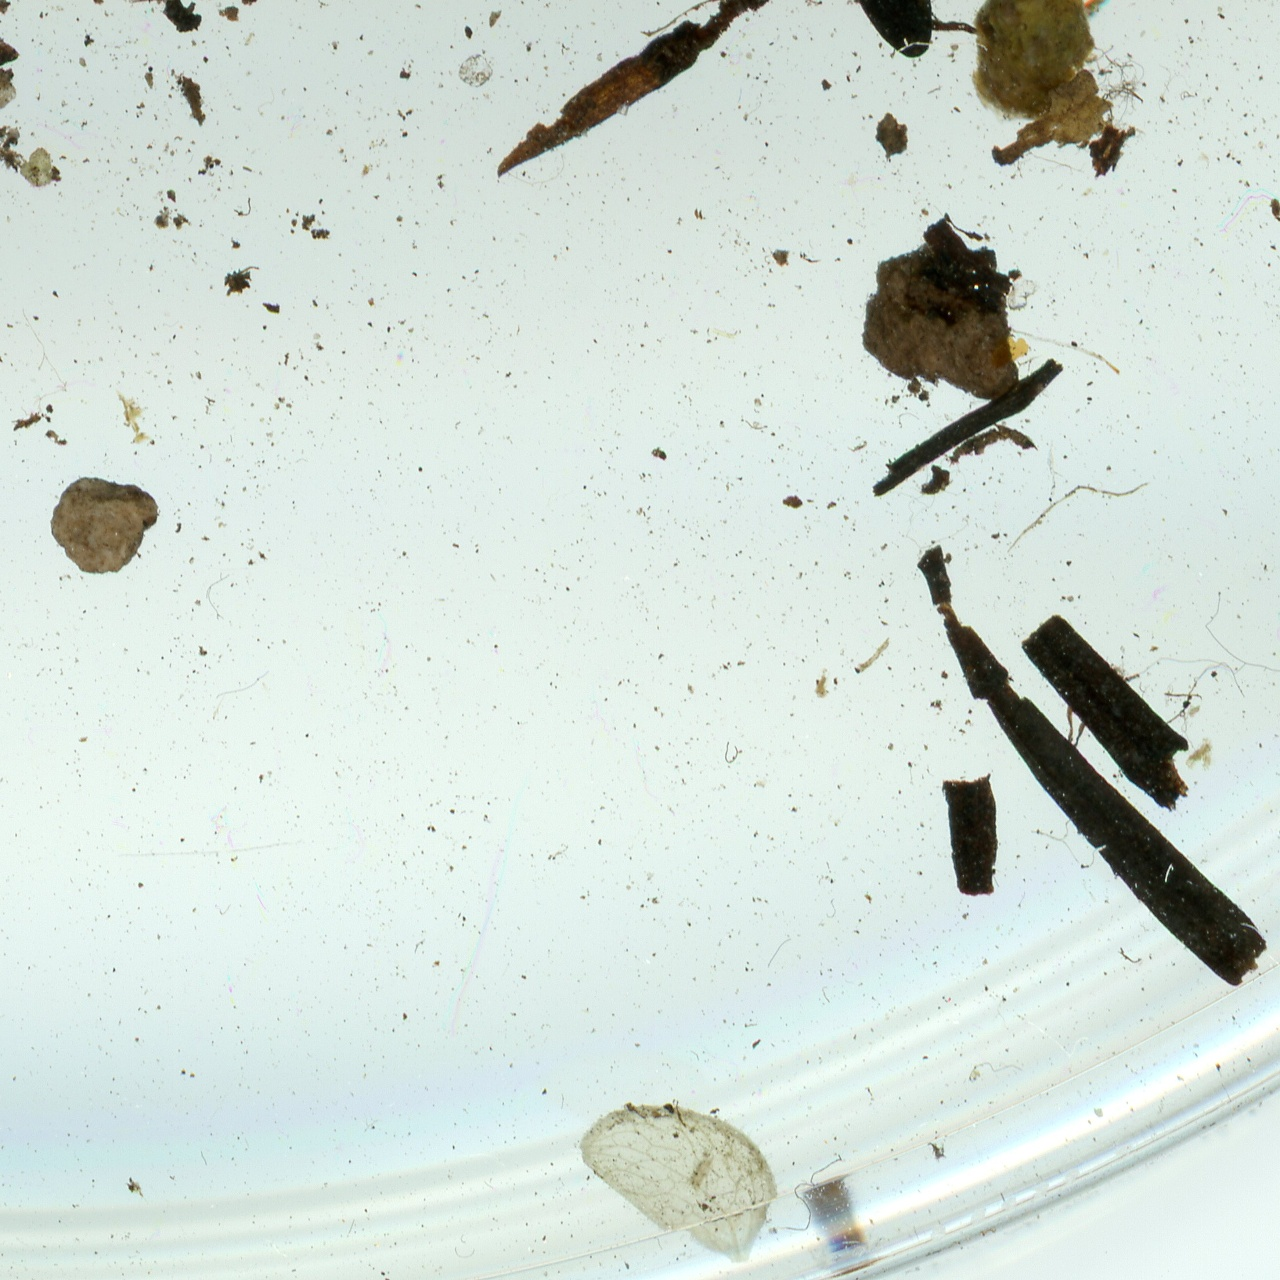arthropod: (845, 437, 871, 454)
